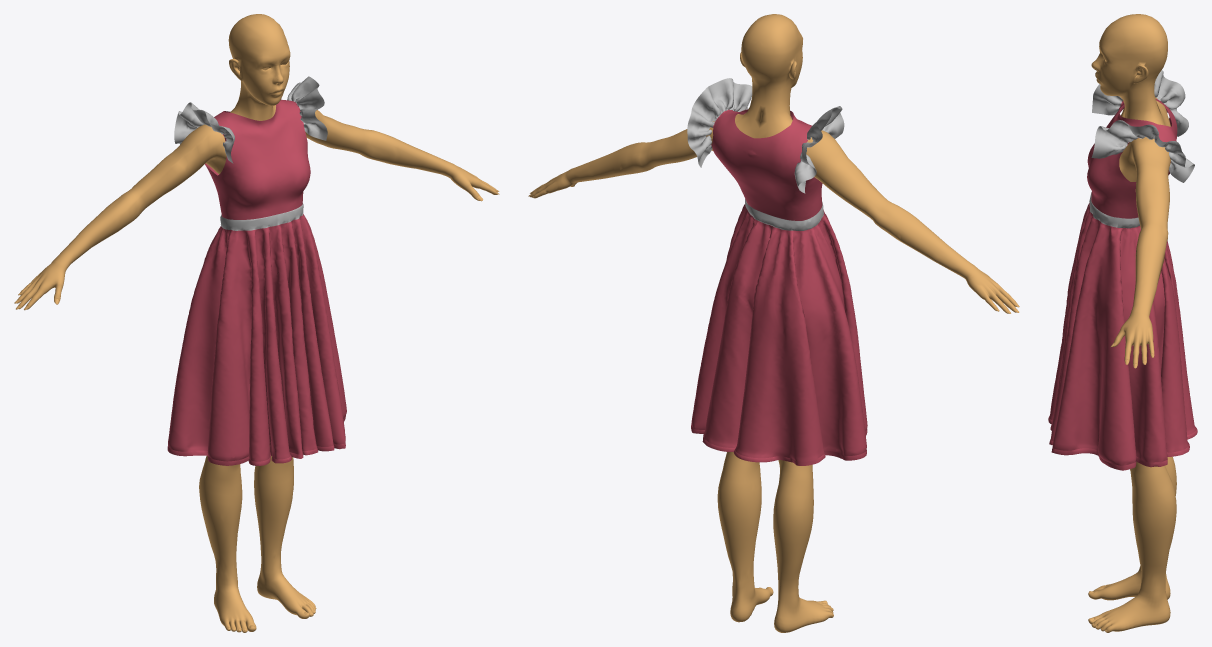
Rendered from dress4.glb.
The picture shows the model from 3 angles, left to right: view 1: azimuth 30°, elevation 25°; view 2: azimuth 150°, elevation 25°; view 3: azimuth 270°, elevation 25°; orthographic projection.
Visible parts, largest first — view 1: PinkDrees#14 (OBJ), Body; view 2: PinkDrees#14 (OBJ), Body; view 3: PinkDrees#14 (OBJ), Body.
Boxes of the visible parts, x1,y1,x2,y2 form: PinkDrees#14 (OBJ): [167, 76, 346, 465]; Body: [17, 14, 498, 632]; PinkDrees#14 (OBJ): [687, 78, 867, 465]; Body: [529, 14, 1016, 632]; PinkDrees#14 (OBJ): [1048, 70, 1197, 470]; Body: [1088, 14, 1176, 632].
Size of the model in its own units: 1.58 by 1.85 by 0.4187.
